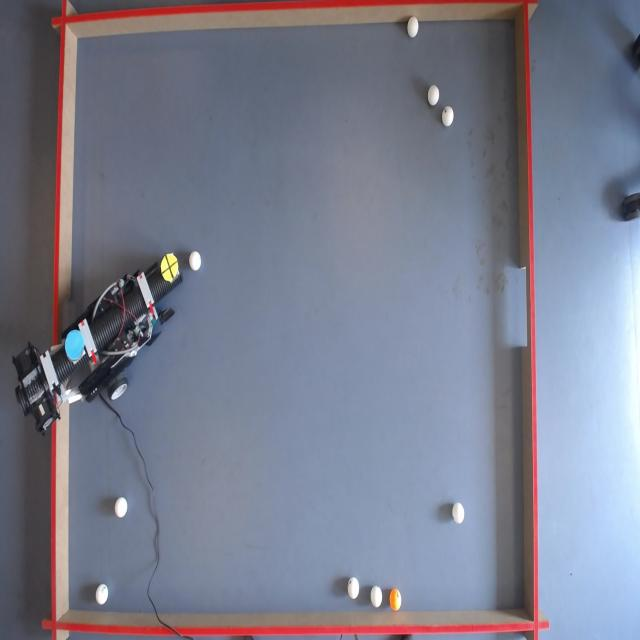orange: (389, 592, 402, 611)
robot: (11, 252, 188, 438)
robot-front: (162, 253, 180, 286)
robot-rear: (66, 328, 86, 364)
white: (96, 584, 110, 608), (115, 497, 128, 519), (453, 502, 466, 524), (348, 579, 361, 601), (442, 106, 455, 128), (188, 251, 201, 272), (372, 587, 384, 609), (428, 86, 440, 108), (407, 17, 419, 37)
